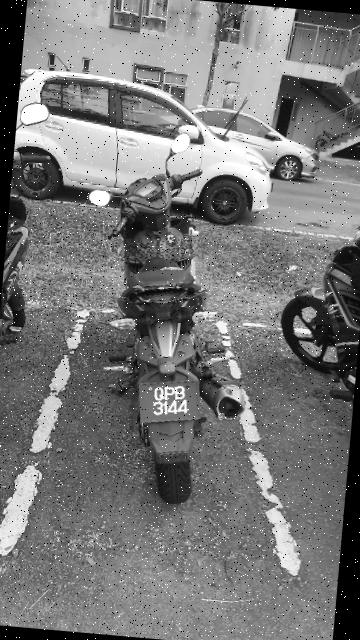License_Plate: (120, 370, 222, 435)
car: (11, 59, 290, 229)
motorcycle: (52, 125, 275, 506)
